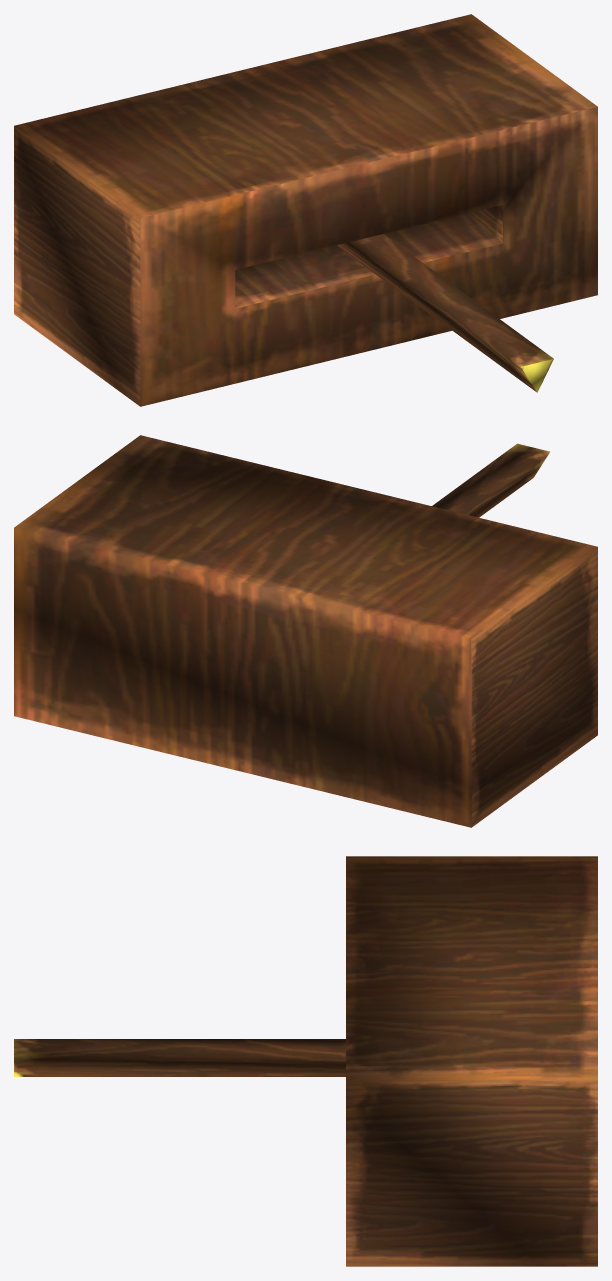
The model's file is INST_SWORDLIGHT_SWITCHA.fbx.
3 renders of one model, top to bottom at view 1: azimuth 30°, elevation 25°; view 2: azimuth 150°, elevation 25°; view 3: azimuth 270°, elevation 25°, orthographic.
Parts seen in each view (by area): view 1: INST_SWORDLIGHT_SWITCHA; view 2: INST_SWORDLIGHT_SWITCHA; view 3: INST_SWORDLIGHT_SWITCHA.
Part boxes in pixels (x1,y1,x2,y2): INST_SWORDLIGHT_SWITCHA: (14, 14, 597, 406); INST_SWORDLIGHT_SWITCHA: (14, 435, 597, 827); INST_SWORDLIGHT_SWITCHA: (14, 856, 597, 1266).
Bounding box in the file's own units: 6876 × 2707 × 7623.
Materials: 1 (1 with a texture image).
